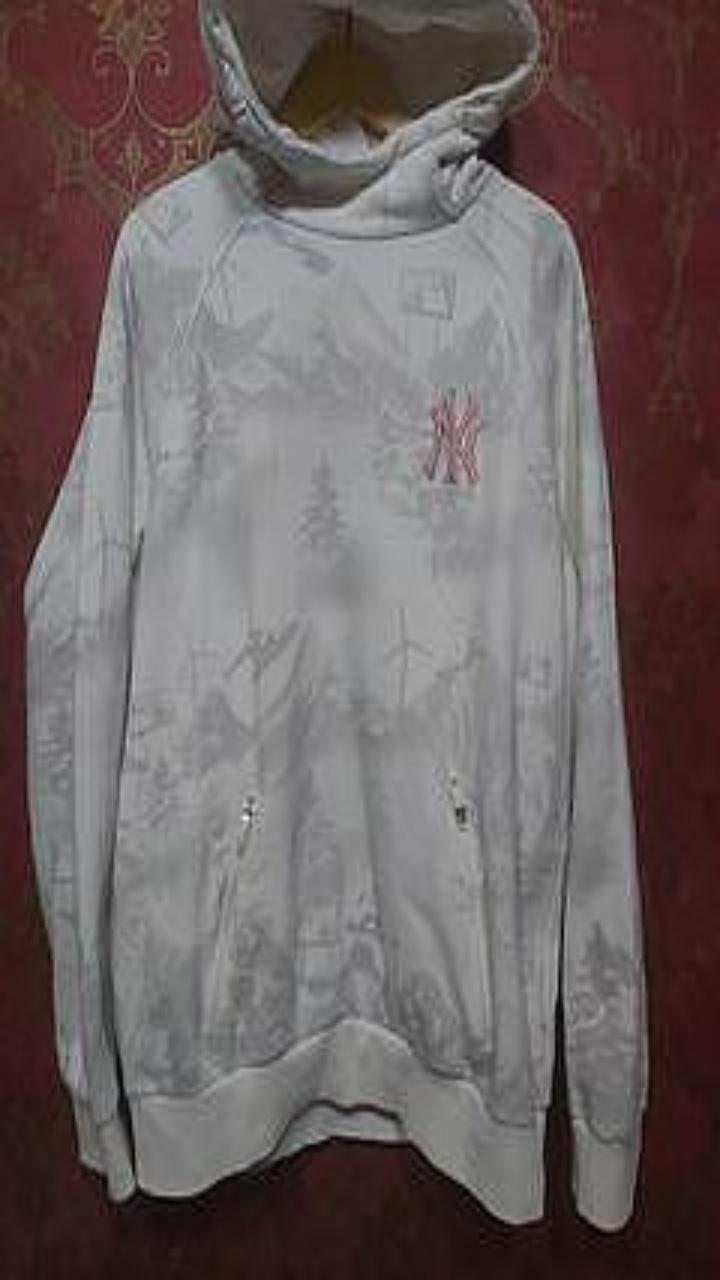Hoodie: (24, 0, 647, 1229)
